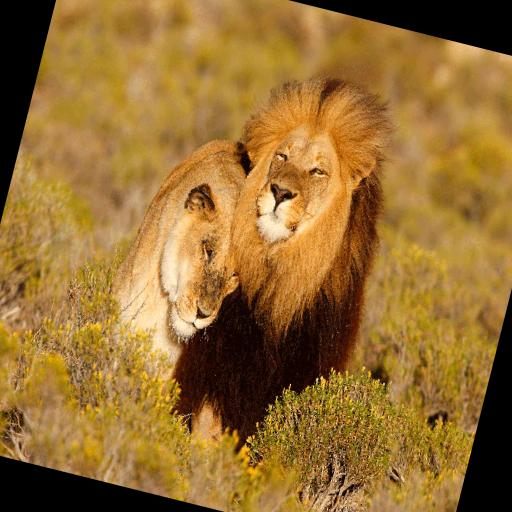lions: (66, 32, 474, 462)
